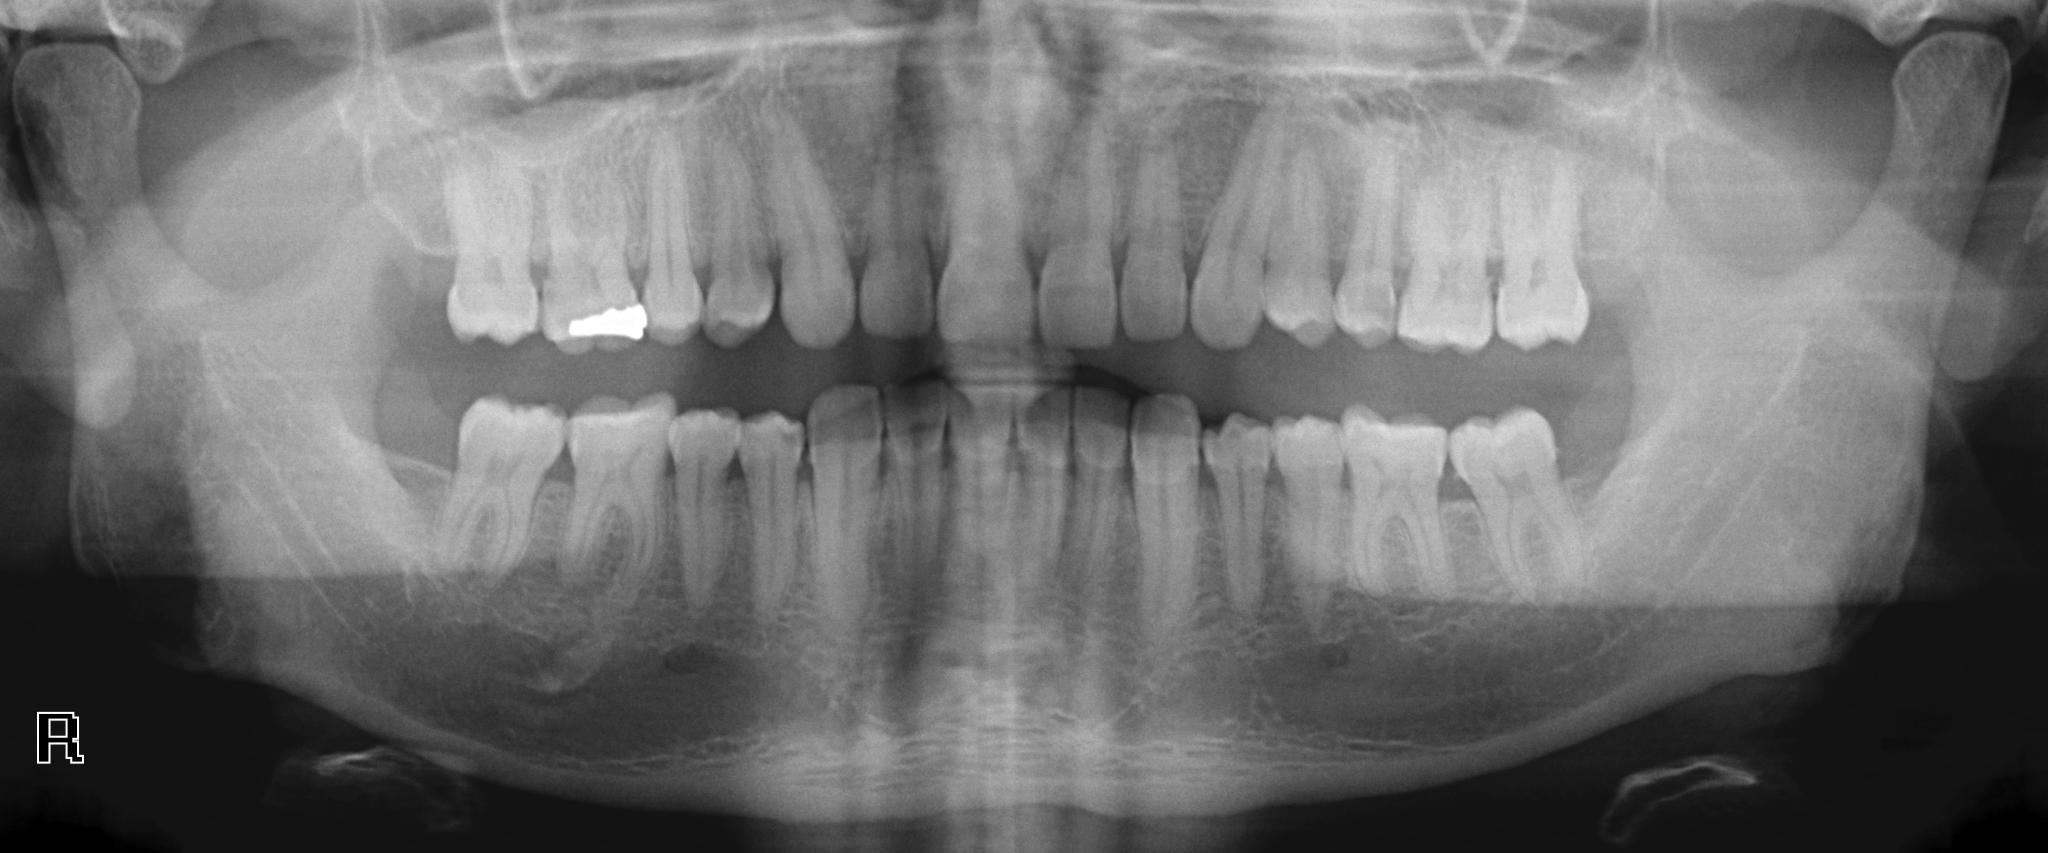Fillings: (530, 144, 647, 350)
Implant: (37, 712, 88, 764)
